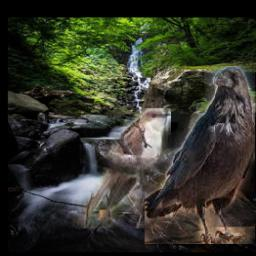Crow: (146, 66, 256, 244)
Cuckoo: (71, 109, 172, 229)
